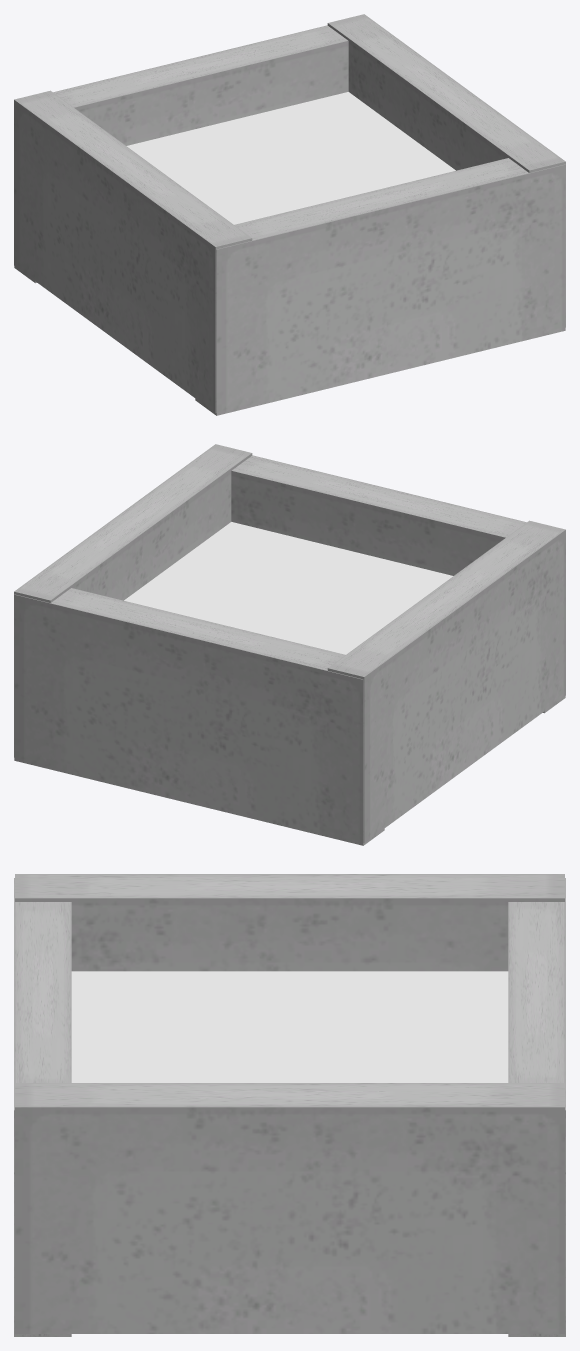
File: Waterbed Hand.fbx
3 renders of one model, top to bottom at view 1: azimuth 30°, elevation 25°; view 2: azimuth 150°, elevation 25°; view 3: azimuth 270°, elevation 25°, orthographic. The views are drawn at different scales.
Parts seen in each view (by area): view 1: Up, Right, FencePost, Down, Left; view 2: Down, Right, FencePost, Up, Left; view 3: Left, FencePost, Right, Up, Down.
Boxes of the visible parts, x1,y1,x2,y2 form: Up: (195, 158, 565, 415); Right: (14, 90, 252, 413); FencePost: (126, 92, 455, 224); Down: (14, 25, 348, 283); Left: (327, 14, 565, 327); Down: (14, 588, 384, 845); Right: (327, 520, 565, 843); FencePost: (124, 522, 453, 654); Up: (231, 455, 565, 713); Left: (14, 444, 252, 757); Left: (15, 1083, 564, 1333); FencePost: (71, 971, 508, 1082); Right: (15, 874, 564, 971); Up: (14, 878, 71, 1336); Down: (508, 878, 565, 1336).
Bounding box in the file's own units: 0.8027 × 0.3692 × 0.8027.
3 materials, 2 textured.
